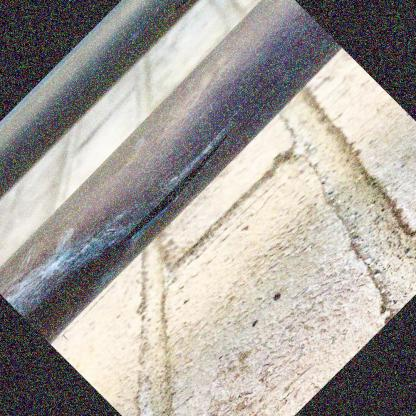burst: (114, 133, 225, 252)
